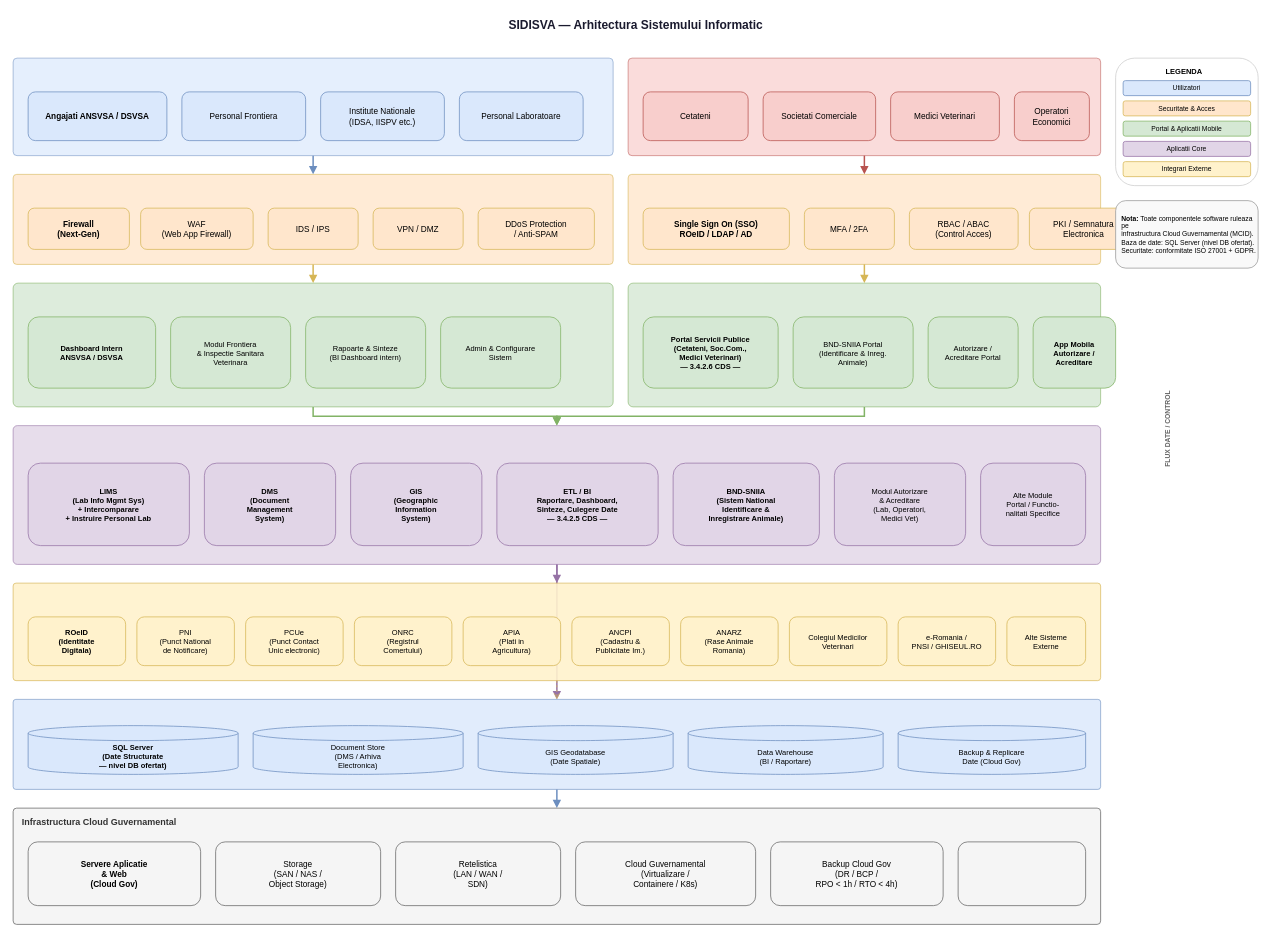
This 1271x938 diagram has some shape labels left out. Each missing label, with the box of its shape:
Aplicatii Core SIDISVA — VOGO ENTERPRISE BUSINESS SUITE: (12, 425, 1101, 564)
Identitate & Acces (IAM / SSO): (627, 174, 1101, 264)
Integrari Externe (API Gateway / Webservices / ESB): (12, 582, 1101, 681)
Portal Servicii Interne: (12, 282, 613, 407)
Portal Servicii Publice & Aplicatii Mobile: (627, 282, 1101, 407)
Securitate Perimetru: (12, 174, 613, 264)
SIEM / SOC (Monitorizare Securitate): (957, 841, 1086, 906)
Strat Date (Data Layer): (12, 699, 1101, 789)
Utilizatori Externi / Beneficiari Servicii: (627, 57, 1101, 156)
Utilizatori Interni: (12, 57, 613, 156)
